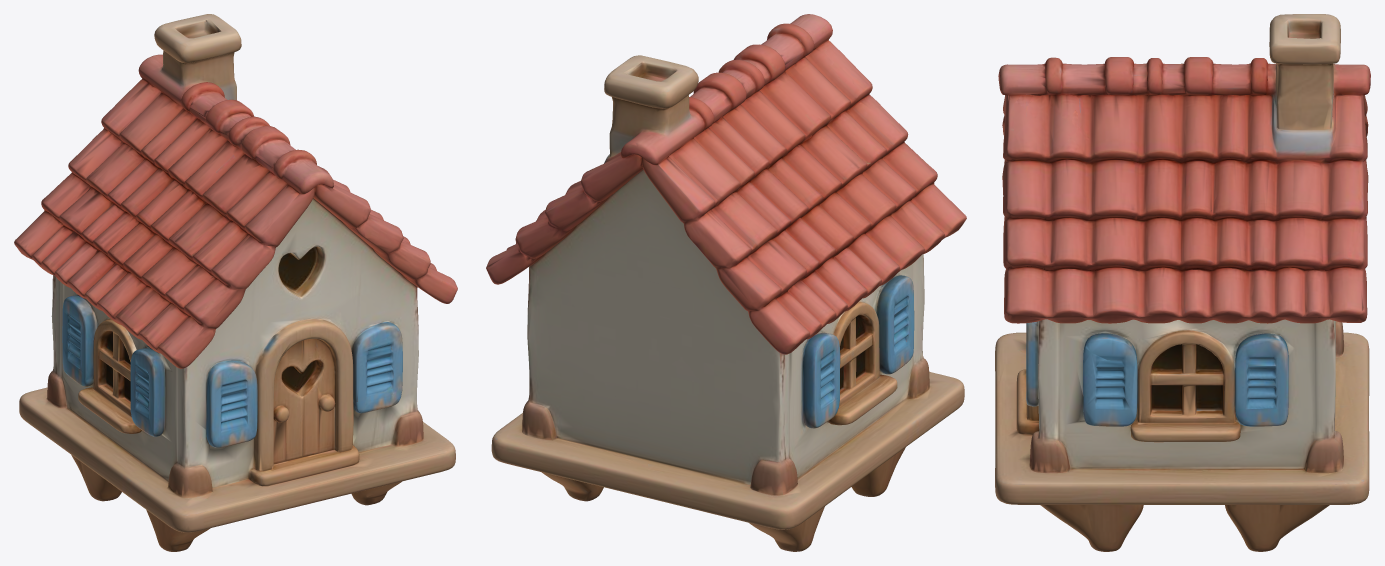
Rendered from house.glb.
3 renders of one model, left to right at view 1: azimuth 30°, elevation 25°; view 2: azimuth 150°, elevation 25°; view 3: azimuth 270°, elevation 25°, orthographic. The views are drawn at different scales.
Visible parts, largest first — view 1: node_0; view 2: node_0; view 3: node_0.
Boxes of the visible parts, left/top/right/bottom form: node_0: left=14, top=14, right=457, bottom=551; node_0: left=486, top=14, right=966, bottom=551; node_0: left=995, top=14, right=1370, bottom=551.
Bounding box in the file's own units: 0.7173 × 1.01 × 0.7199.
1 material, 1 textured.
